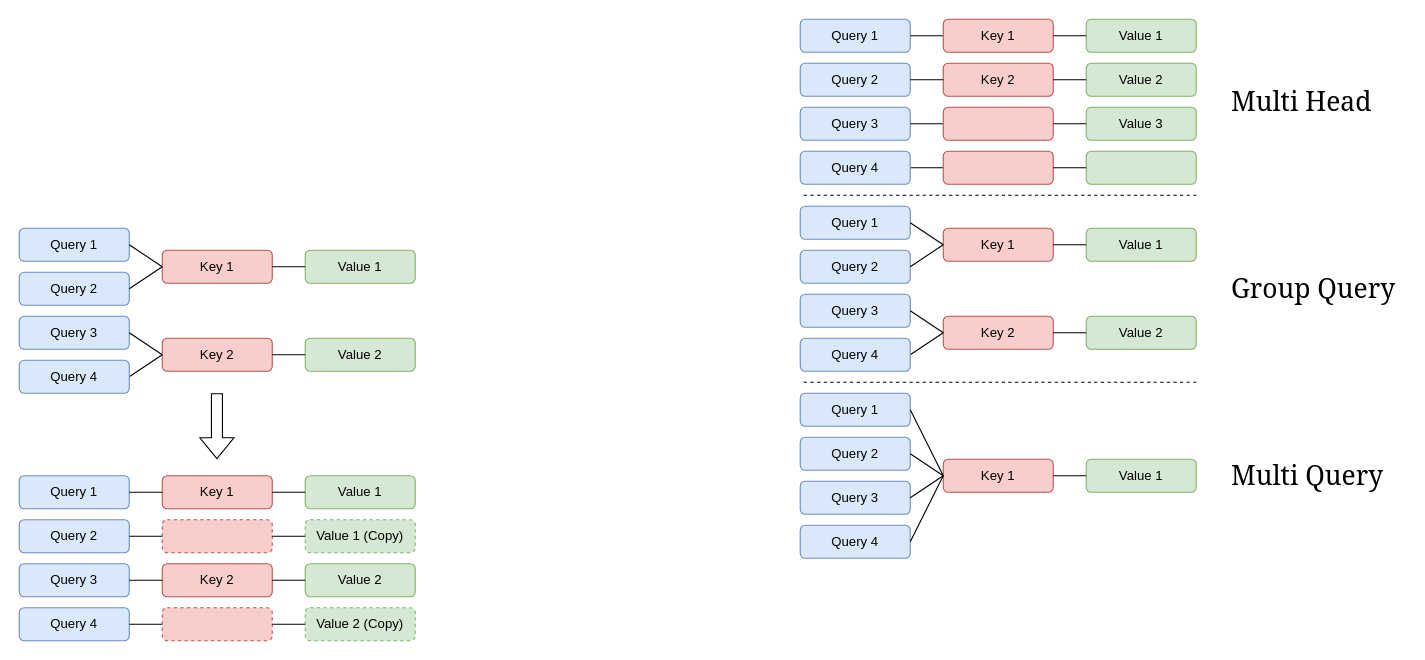
The diagram is 1425 pixels wide and 660 high, and some of its shapes have lost their labels. Each missing label, with the centre of its shape:
Key 1 (Copy): [216,536]
Key 2 (Copy): [216,624]
Key 3: [997,123]
Key 4: [997,167]
Value 4: [1140,167]
